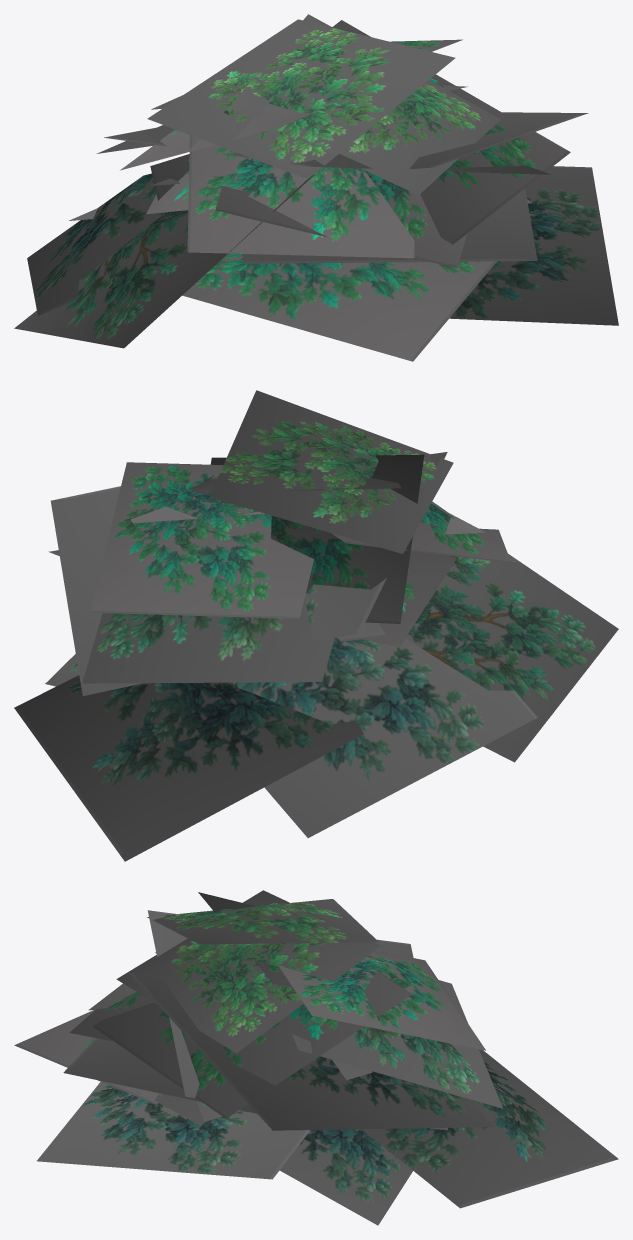
Rendered from fb_qingqs_zw_06.FBX.
The picture shows the model from 3 angles, top to bottom: view 1: azimuth 30°, elevation 25°; view 2: azimuth 150°, elevation 25°; view 3: azimuth 270°, elevation 25°; orthographic projection. The views are drawn at different scales.
Visible parts, largest first — view 1: fb_qingqs_zhiwu_03; view 2: fb_qingqs_zhiwu_03; view 3: fb_qingqs_zhiwu_03.
Boxes of the visible parts, x1,y1,x2,y2 form: fb_qingqs_zhiwu_03: (14,14,618,361); fb_qingqs_zhiwu_03: (14,390,618,861); fb_qingqs_zhiwu_03: (14,890,618,1225).
Bounding box in the file's own units: 91.57 × 48.53 × 103.
